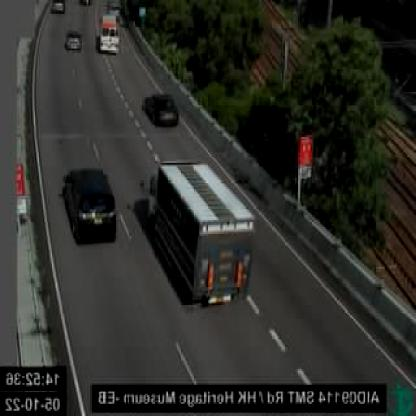Car: (64, 168, 117, 243), (144, 94, 181, 126), (66, 28, 84, 52)
Minibus: (102, 14, 118, 54)
Truck: (147, 161, 255, 305)
